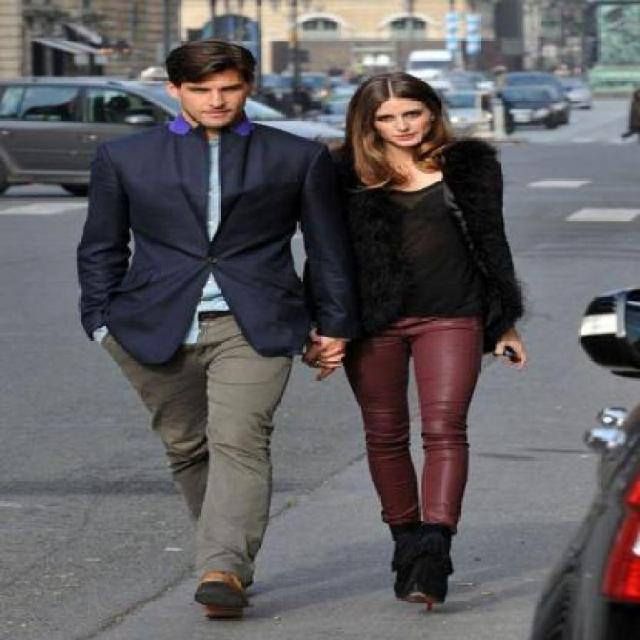Person: (291, 62, 546, 635), (79, 33, 296, 619)
